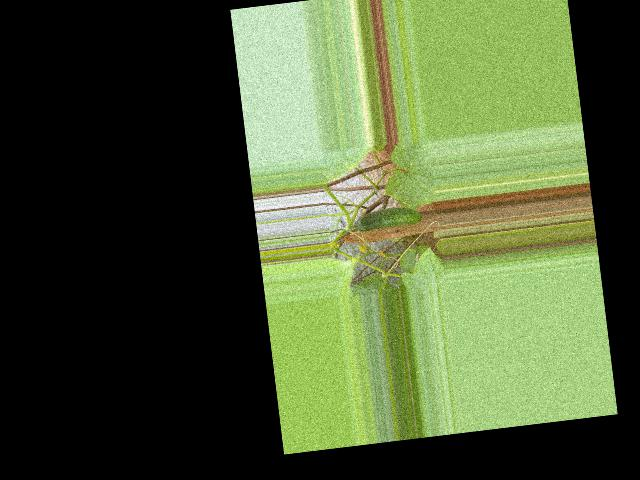cucumber: (354, 204, 423, 232)
